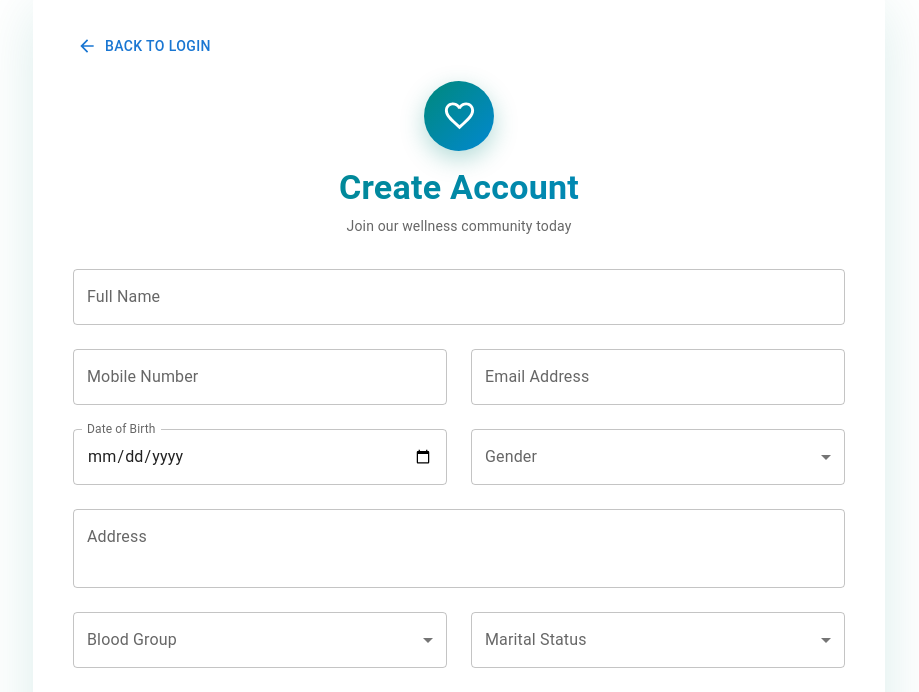
Test case: RegistrationScreen Component › Mobile Number Validation › shows error for invalid mobile number format
Type "12345" into the field labelled "Mobile Number" at (260, 376), box [73,348,447,404]
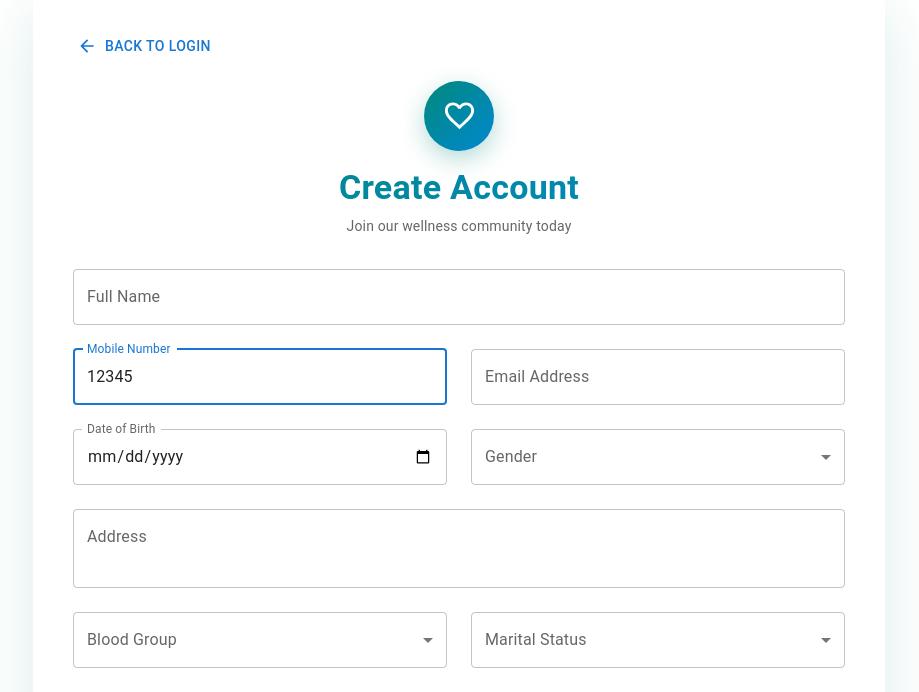
Leave the field labelled "Mobile Number", box [73,348,447,404]
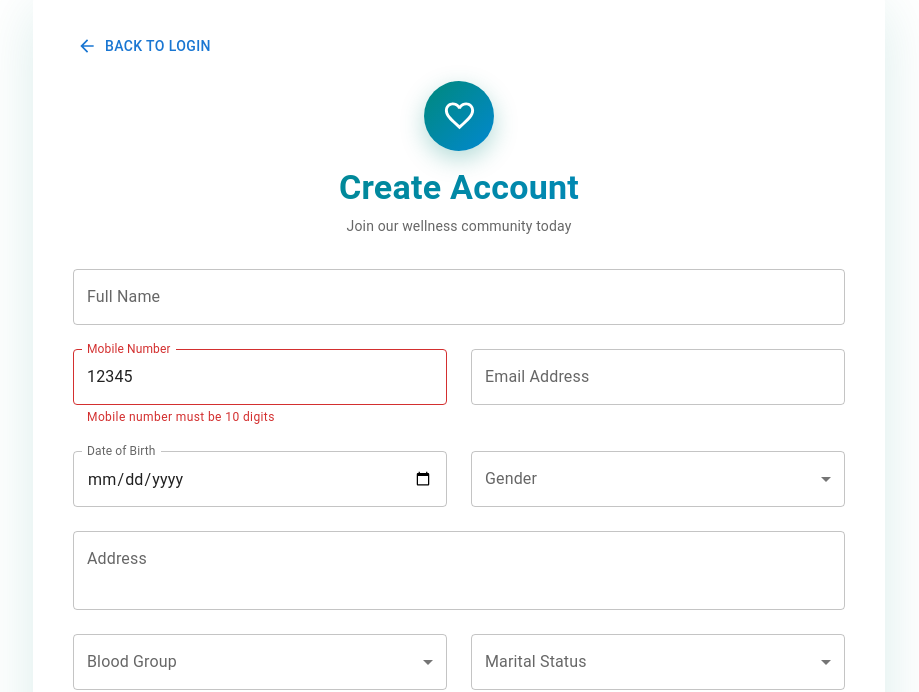
Check: the text "Mobile number must be 10 digits" is shown, box [87,410,275,424]
